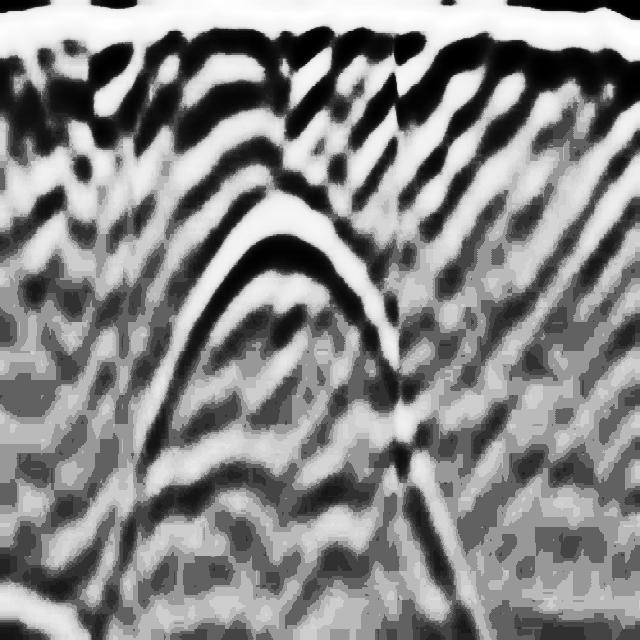hyperbola: (116, 172, 455, 530)
